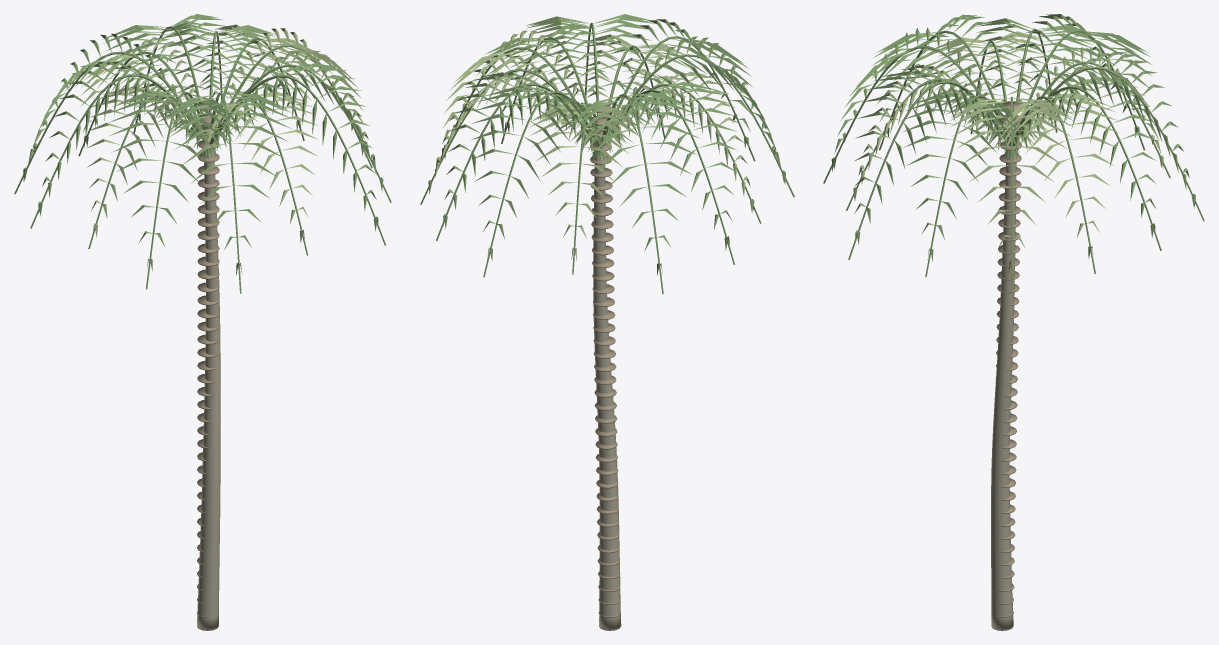
The model's file is grove-grove-tree-0.glb.
3 views of the same model, side by side, from view 1: azimuth 30°, elevation 25°; view 2: azimuth 150°, elevation 25°; view 3: azimuth 270°, elevation 25° (orthographic).
Parts seen in each view (by area): view 1: grove-grove-tree-0; view 2: grove-grove-tree-0; view 3: grove-grove-tree-0.
Part boxes in pixels (left/top/right/bottom): grove-grove-tree-0: left=14, top=14, right=391, bottom=630; grove-grove-tree-0: left=420, top=14, right=794, bottom=630; grove-grove-tree-0: left=823, top=14, right=1204, bottom=630.
Bounding box in the file's own units: 5.72 × 9.63 × 5.83.
